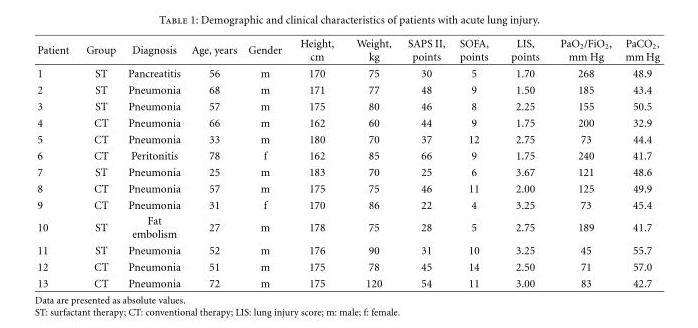table: (36, 37, 658, 288)
table column: (549, 37, 617, 288), (121, 37, 185, 288), (185, 37, 241, 288), (290, 37, 344, 288), (344, 37, 398, 288), (398, 37, 451, 288), (499, 37, 549, 288), (241, 37, 290, 288), (451, 37, 499, 288), (76, 37, 121, 288), (617, 37, 658, 288), (36, 37, 76, 288)
table column header: (36, 37, 658, 64)
table row: (36, 212, 658, 241), (36, 37, 658, 64), (36, 64, 658, 81), (36, 97, 658, 114), (36, 130, 658, 147), (36, 163, 658, 180), (36, 241, 658, 258), (36, 81, 658, 97), (36, 114, 658, 130), (36, 147, 658, 163), (36, 180, 658, 196), (36, 196, 658, 212), (36, 258, 658, 274), (36, 274, 658, 288)
